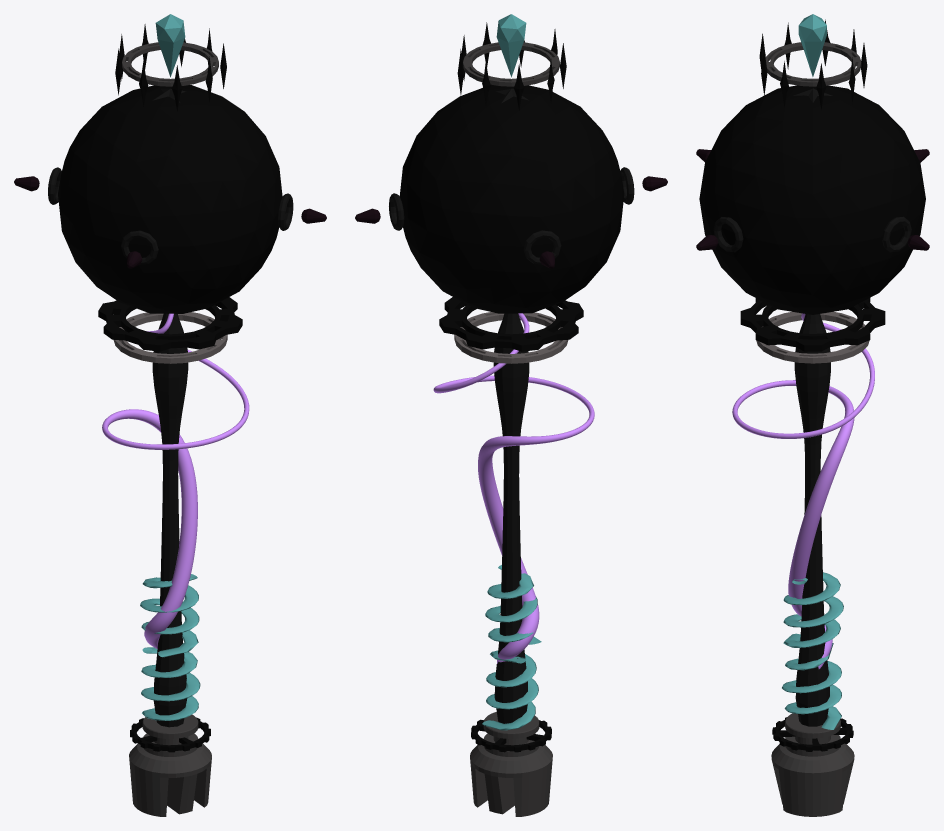
The model's file is switch_activate.fbx.
3 renders of one model, left to right at view 1: azimuth 30°, elevation 25°; view 2: azimuth 150°, elevation 25°; view 3: azimuth 270°, elevation 25°, orthographic.
Visible parts, largest first — view 1: 1_head_main_ball, 2_middle_main_stick, 3_bottom_cylinder2, 2_middle_curve1_001, 2_middle_curve1_002, 1_middle_gear1, 1_middle_gear2, 1_head_gear1, 1_head_ring, 1_head__dia, 1_head_point, 3_bottom_gear1 (+1 smaller); view 2: 1_head_main_ball, 2_middle_main_stick, 3_bottom_cylinder2, 2_middle_curve1_001, 1_middle_gear1, 2_middle_curve1_002, 1_middle_gear2, 1_head_gear1, 1_head_ring, 1_head__dia, 1_head_point, 3_bottom_gear1 (+1 smaller); view 3: 1_head_main_ball, 2_middle_main_stick, 3_bottom_cylinder2, 2_middle_curve1_001, 2_middle_curve1_002, 1_middle_gear1, 1_middle_gear2, 1_head_gear1, 1_head__dia, 1_head_ring, 1_head_point, 3_bottom_gear1 (+1 smaller).
Boxes of the visible parts, box(x1,y1,x2,y2) form: 1_head_main_ball: box(58, 85, 282, 313); 2_middle_main_stick: box(152, 313, 188, 727); 3_bottom_cylinder2: box(129, 714, 211, 816); 2_middle_curve1_001: box(102, 313, 249, 648); 2_middle_curve1_002: box(140, 574, 200, 720); 1_middle_gear1: box(98, 297, 242, 351); 1_middle_gear2: box(113, 312, 227, 363); 1_head_gear1: box(122, 42, 218, 86); 1_head_ring: box(48, 167, 293, 264); 1_head__dia: box(115, 24, 226, 111); 1_head_point: box(155, 14, 185, 77); 3_bottom_gear1: box(130, 717, 210, 752); 1_head_main_ball: box(399, 84, 624, 313); 2_middle_main_stick: box(493, 313, 529, 723); 3_bottom_cylinder2: box(470, 712, 552, 816); 2_middle_curve1_001: box(433, 313, 594, 663); 1_middle_gear1: box(439, 297, 583, 351); 2_middle_curve1_002: box(482, 565, 541, 730); 1_middle_gear2: box(454, 312, 568, 363); 1_head_gear1: box(463, 42, 559, 86); 1_head_ring: box(389, 167, 634, 264); 1_head__dia: box(457, 22, 566, 110); 1_head_point: box(496, 14, 526, 77); 3_bottom_gear1: box(471, 717, 551, 752); 1_head_main_ball: box(699, 85, 925, 314); 2_middle_main_stick: box(794, 314, 830, 726); 3_bottom_cylinder2: box(771, 713, 854, 816); 2_middle_curve1_001: box(732, 313, 874, 668); 2_middle_curve1_002: box(782, 572, 843, 729); 1_middle_gear1: box(740, 298, 885, 351); 1_middle_gear2: box(756, 311, 869, 363); 1_head_gear1: box(765, 42, 861, 86); 1_head__dia: box(759, 19, 867, 109); 1_head_ring: box(713, 216, 911, 252); 1_head_point: box(798, 14, 826, 76); 3_bottom_gear1: box(772, 717, 853, 751).
Size of the model in its own units: 229 by 867 by 233.
